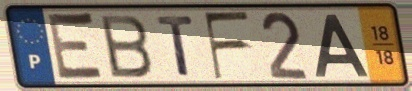2: (260, 9, 310, 81)
A: (312, 12, 371, 78)
B: (97, 13, 155, 80)
E: (45, 9, 108, 84)
F: (201, 10, 253, 83)
T: (154, 14, 197, 78)
